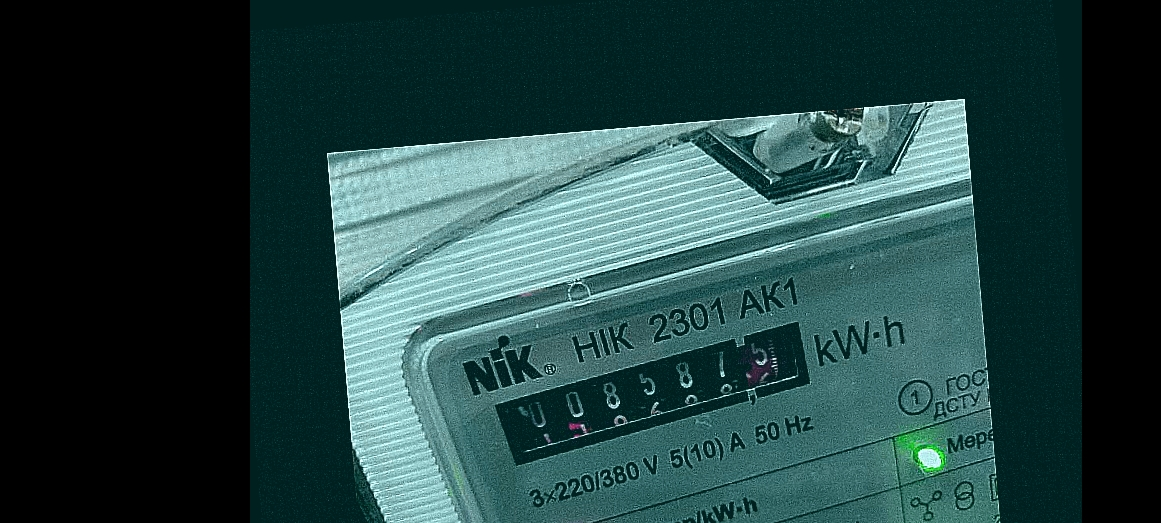0: (560, 384, 589, 420), (523, 395, 552, 429)
5: (635, 364, 660, 397), (746, 333, 771, 366)
6: (754, 368, 774, 386)
7: (708, 345, 733, 381)
8: (671, 355, 697, 390), (599, 377, 625, 410)
screen: (482, 317, 838, 468)
